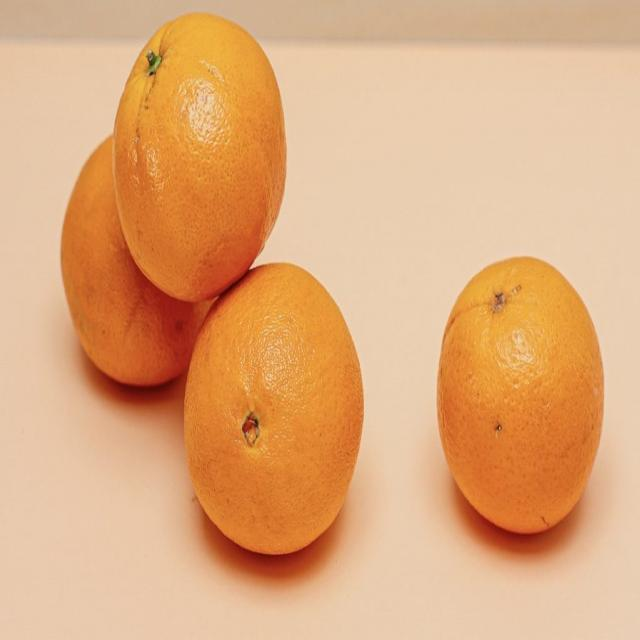Orange: (178, 262, 366, 555), (112, 14, 290, 300), (440, 257, 605, 537), (61, 134, 218, 388)
